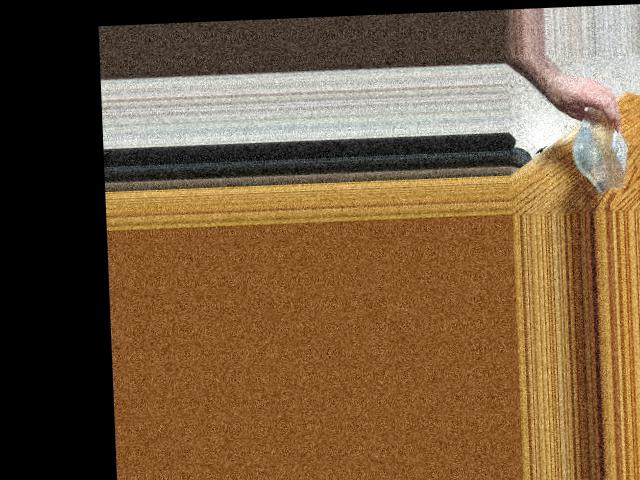cheese: (574, 89, 631, 194)
